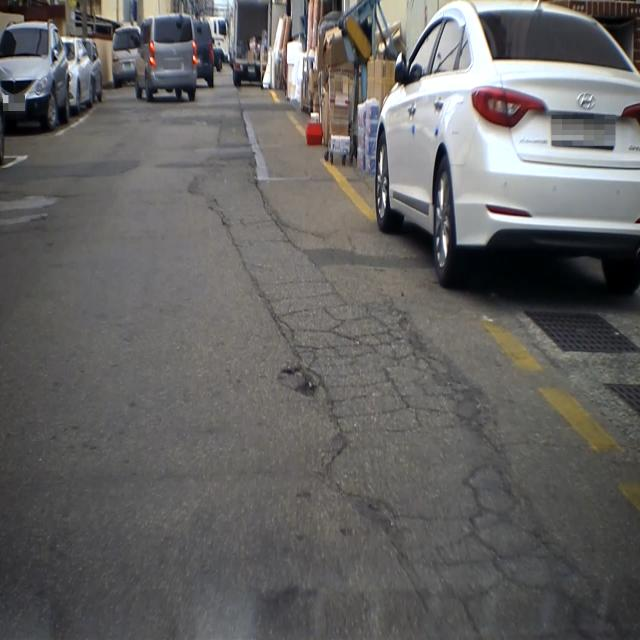Pothole: (277, 354, 324, 413)
